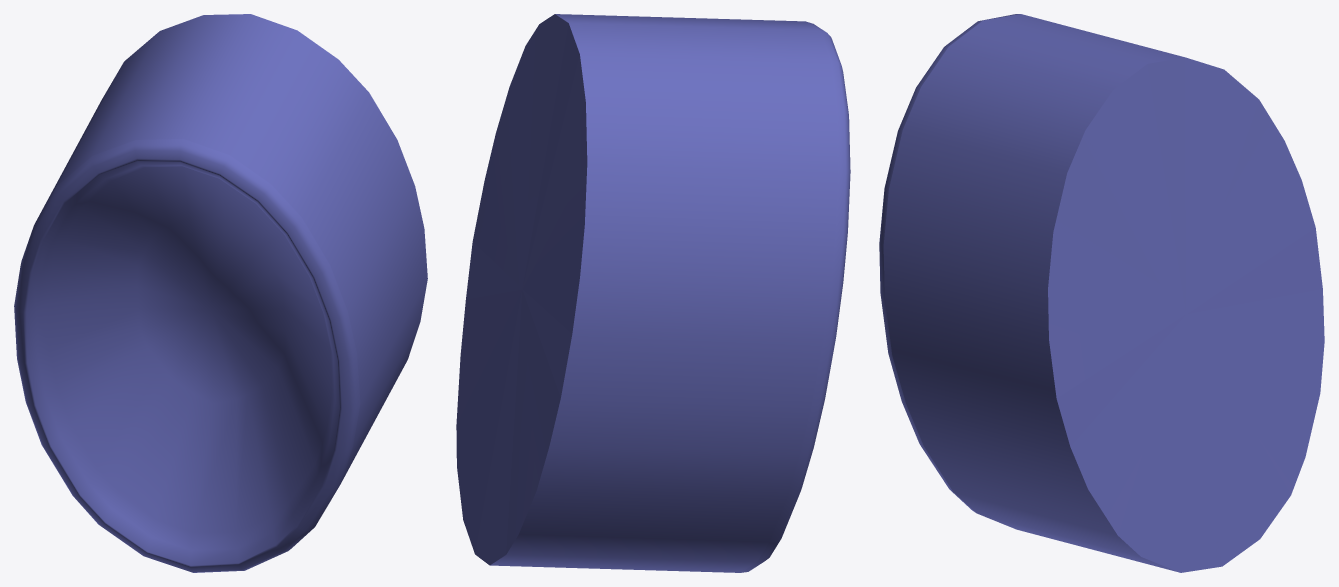
The model's file is TL3_8shapes_Oval_Classic_Metal.001 3.glb.
3 renders of one model, left to right at view 1: azimuth 30°, elevation 25°; view 2: azimuth 150°, elevation 25°; view 3: azimuth 270°, elevation 25°, orthographic. The views are drawn at different scales.
Parts seen in each view (by area): view 1: TL3_8shapes_Oval_Classic_Metal.001; view 2: TL3_8shapes_Oval_Classic_Metal.001; view 3: TL3_8shapes_Oval_Classic_Metal.001.
Boxes of the visible parts, bbox=[...] form: TL3_8shapes_Oval_Classic_Metal.001: bbox=[14, 14, 427, 572]; TL3_8shapes_Oval_Classic_Metal.001: bbox=[456, 14, 850, 572]; TL3_8shapes_Oval_Classic_Metal.001: bbox=[879, 14, 1324, 572].
Bounding box in the file's own units: 0.5574 × 0.7168 × 0.5688.
